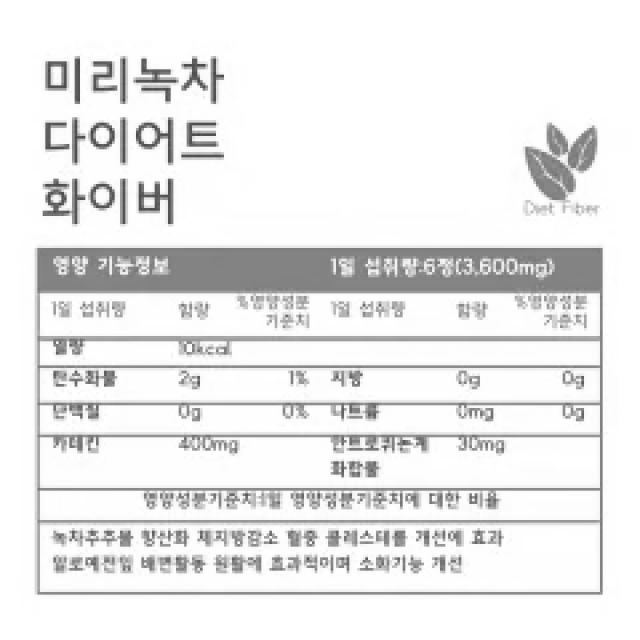Nutrition Label: (31, 241, 612, 605)
